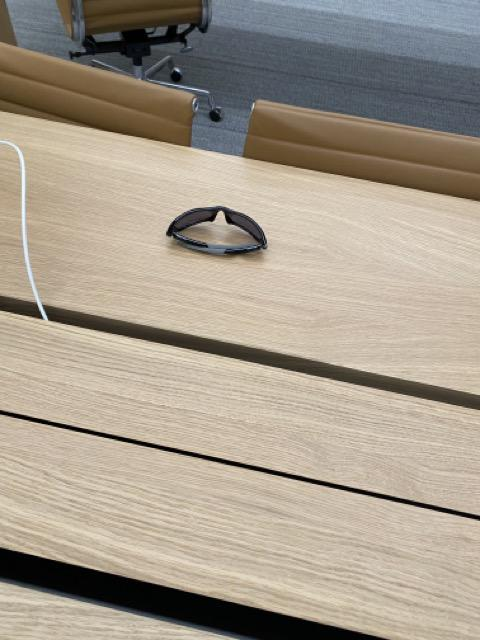Sunglasses: (166, 204, 268, 260)
